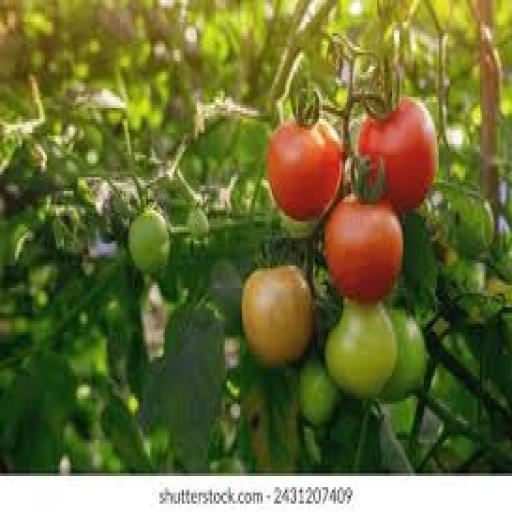tomato: (359, 97, 436, 213), (325, 197, 403, 301), (269, 122, 343, 221), (242, 266, 313, 365), (325, 302, 397, 398), (383, 310, 427, 401), (128, 208, 170, 271), (451, 200, 495, 257), (301, 360, 337, 426), (449, 261, 485, 293), (280, 211, 315, 238), (486, 277, 511, 307), (188, 208, 210, 240)
